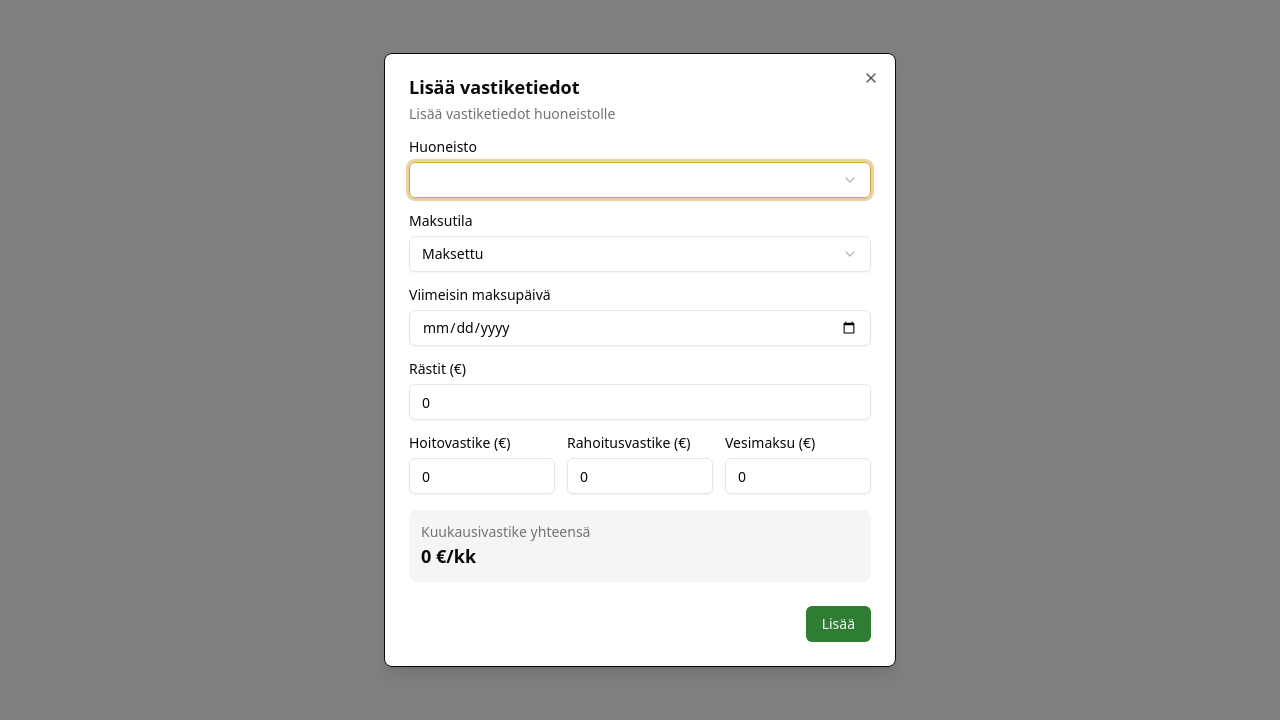
Scenario: PaymentFormDialog › calculates monthly total dynamically
This screenshot has width=1280, height=720.
Clear the number field labelled "Hoitovastike (€)" at (482, 476), box [409,458,555,494]
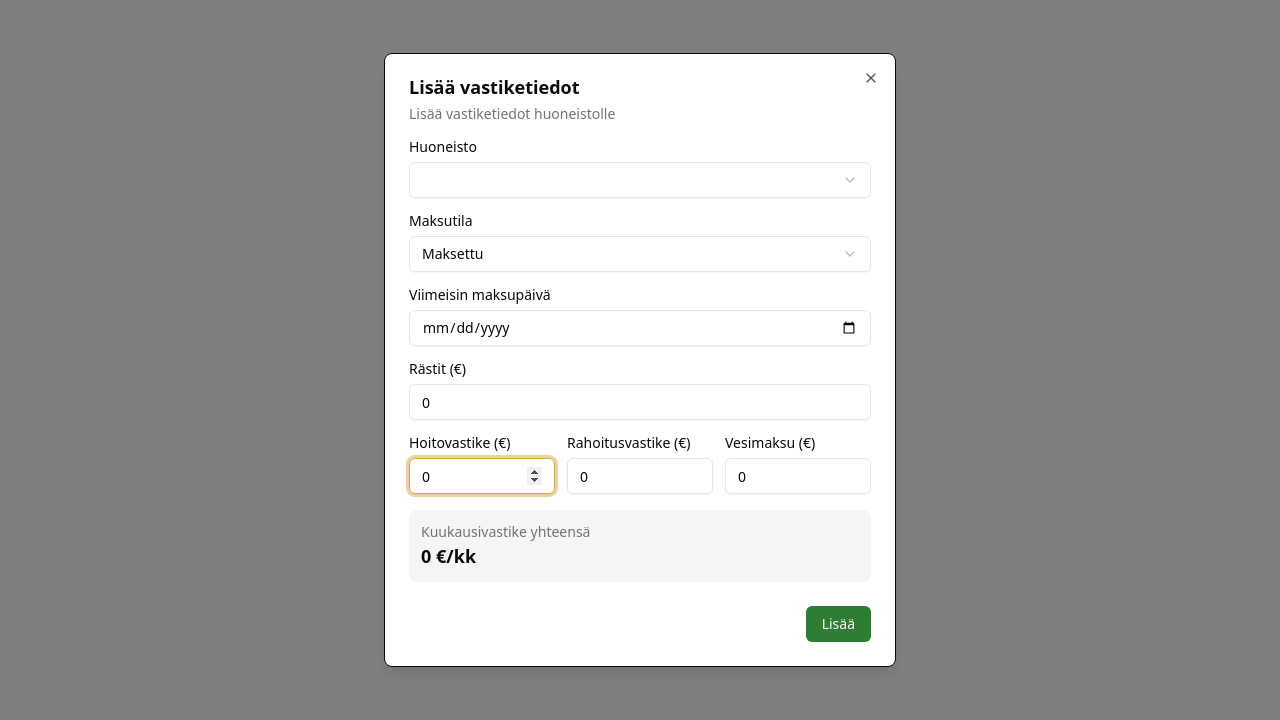
Type keys "100"
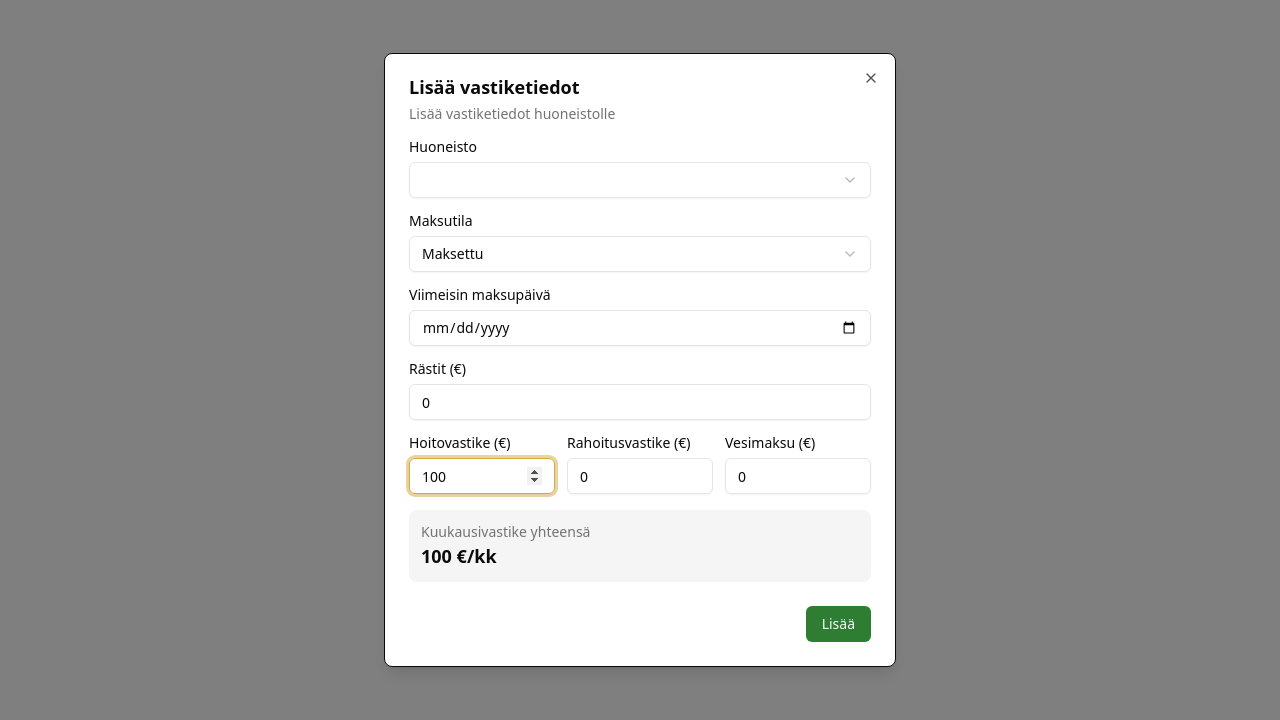
Clear the number field labelled "Rahoitusvastike (€)" at (640, 476), box [567,458,713,494]
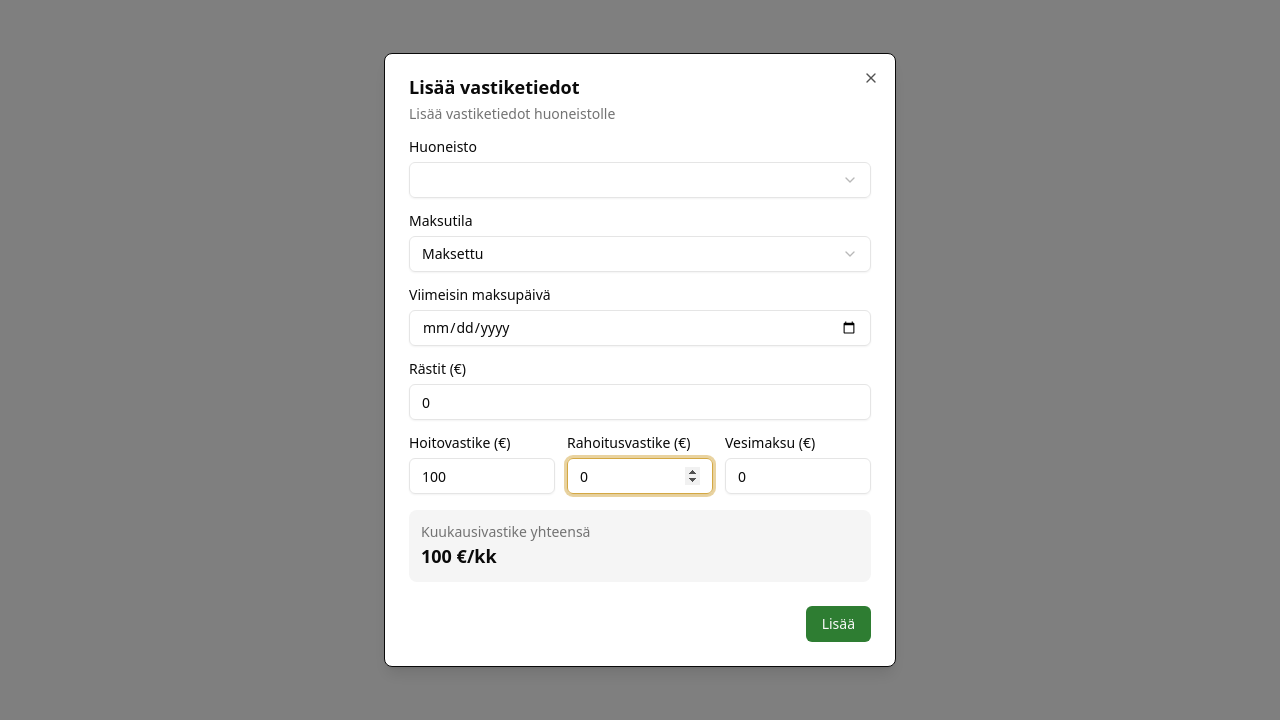
Type keys "50"
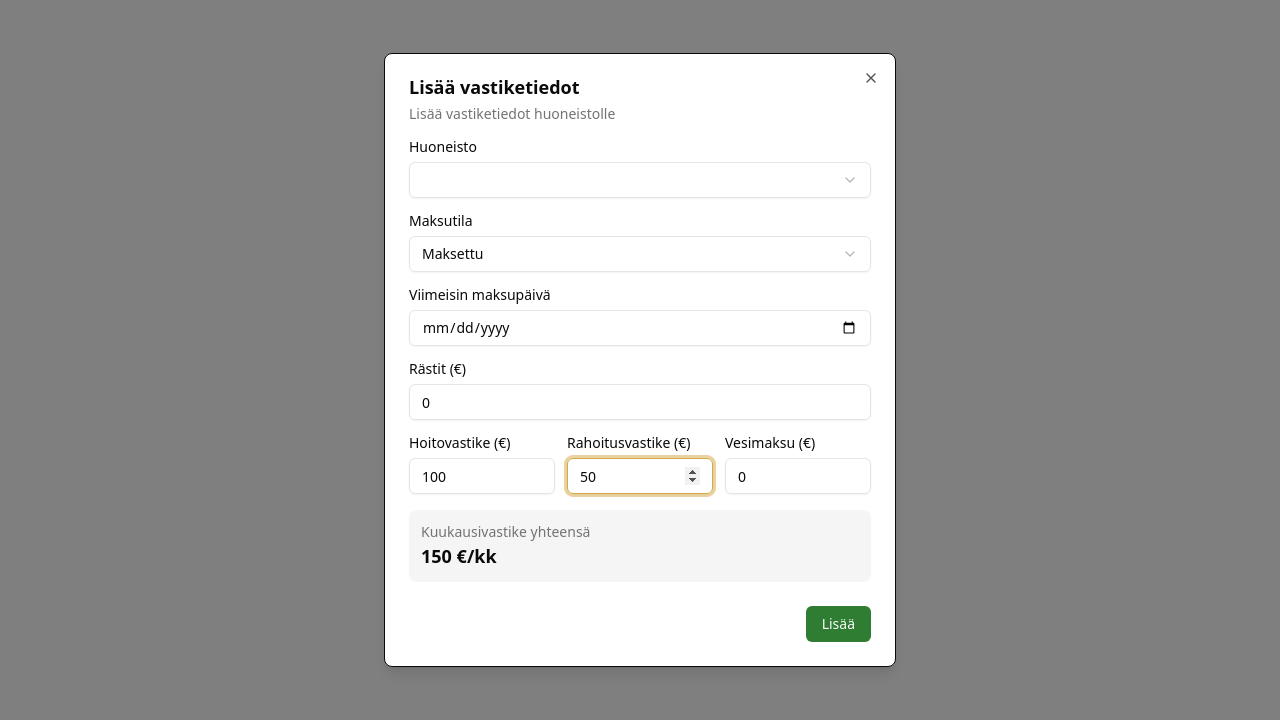
Clear the number field labelled "Vesimaksu (€)" at (798, 476), box [725,458,871,494]
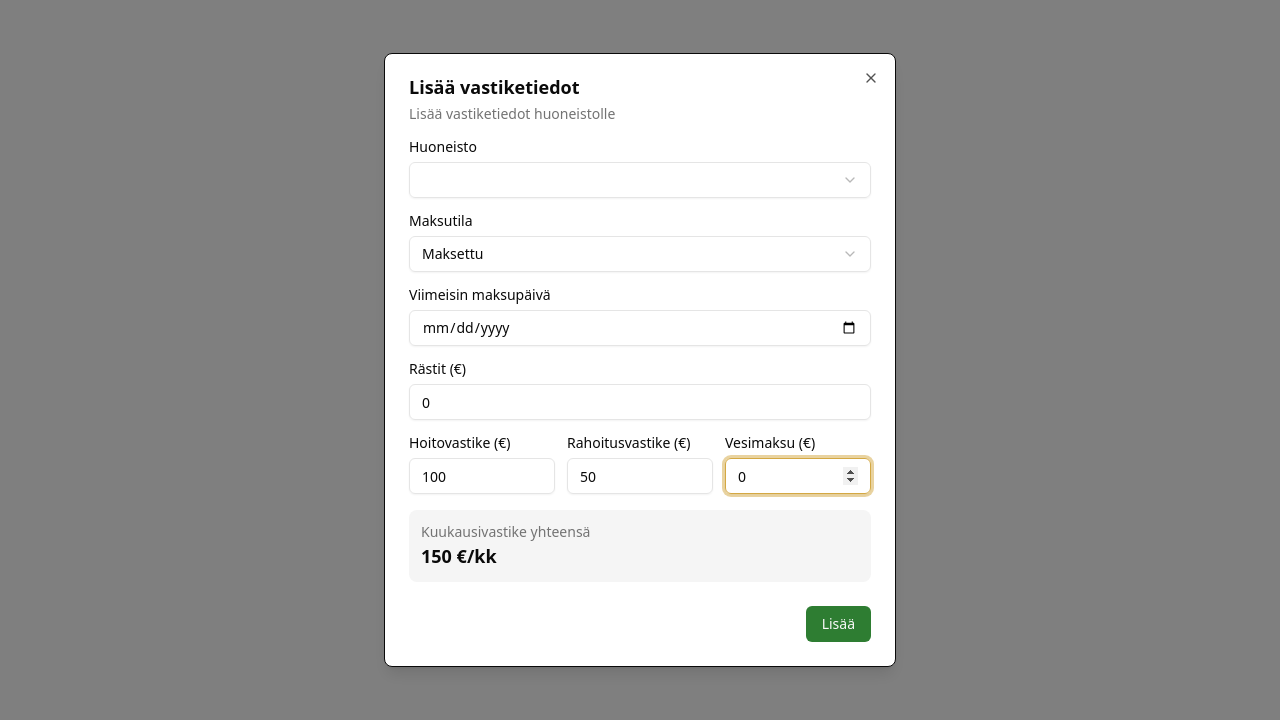
Type keys "25"
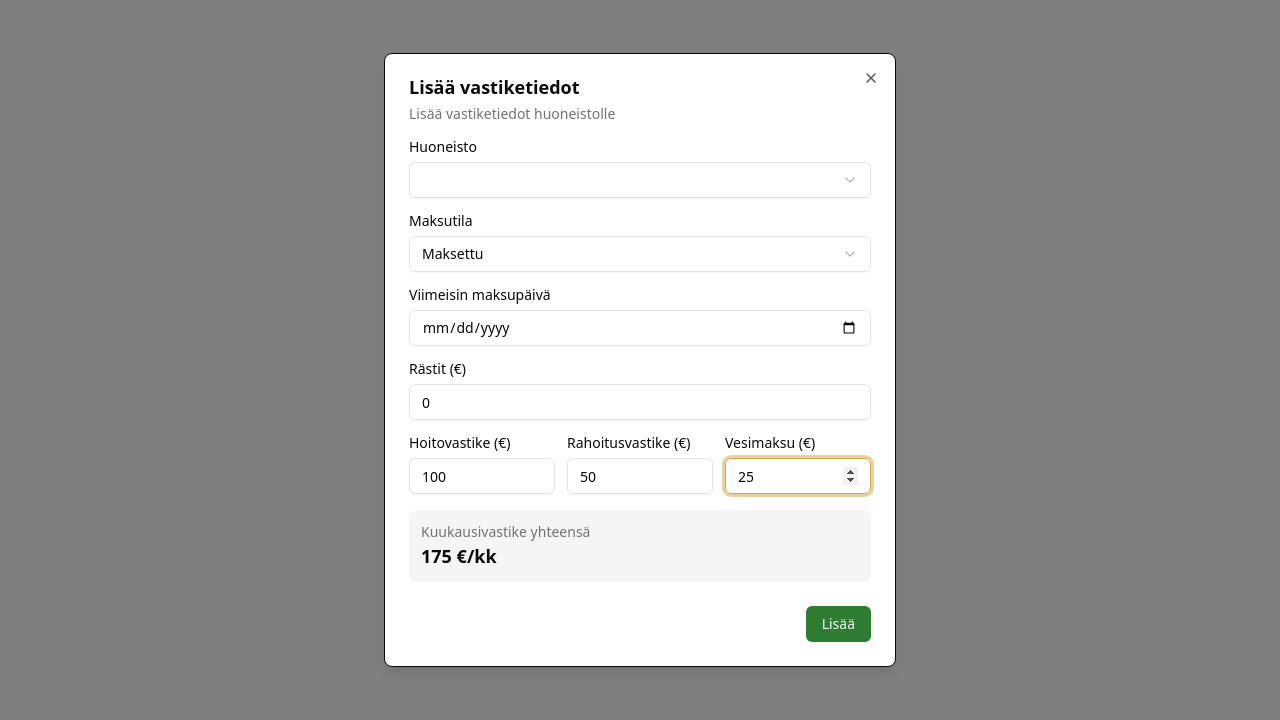
expect the text "175 €/kk" is shown: met, box [421,544,497,568]
